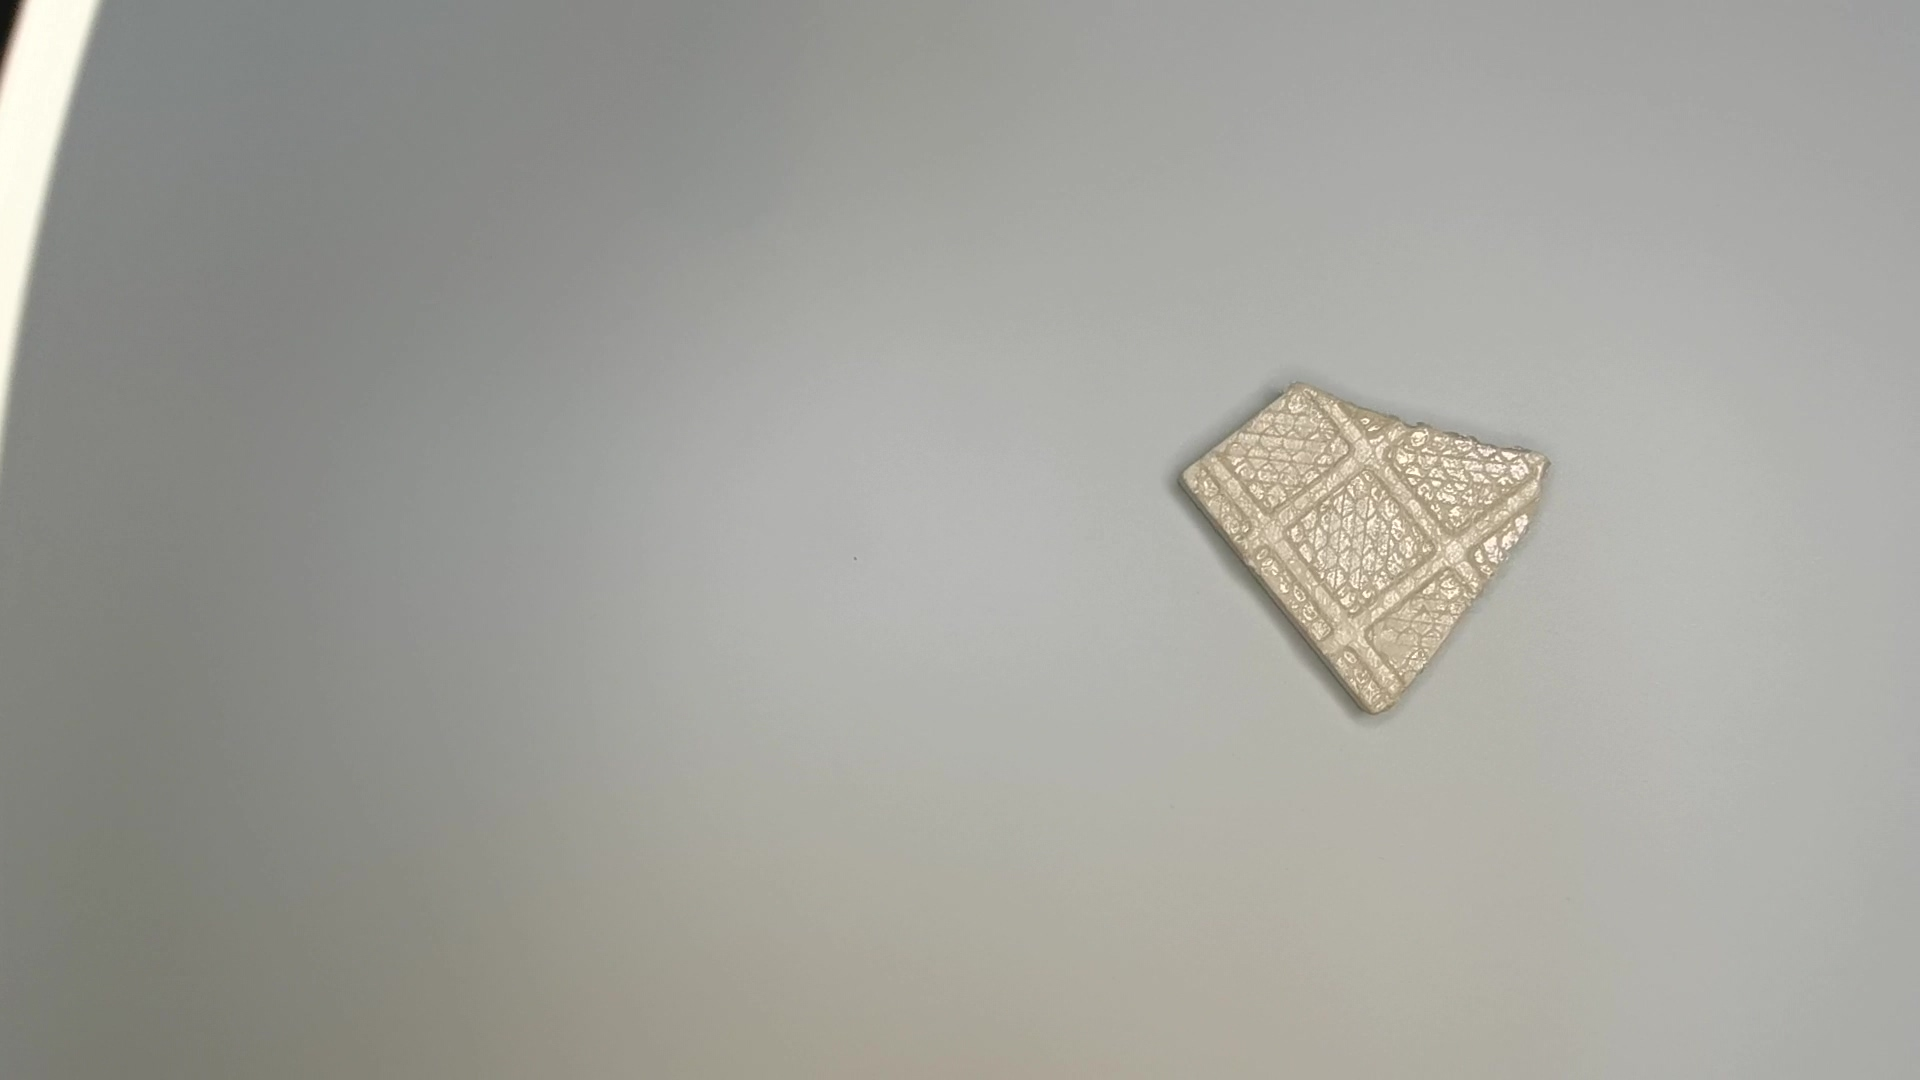ceramic: (1174, 378, 1555, 724)
